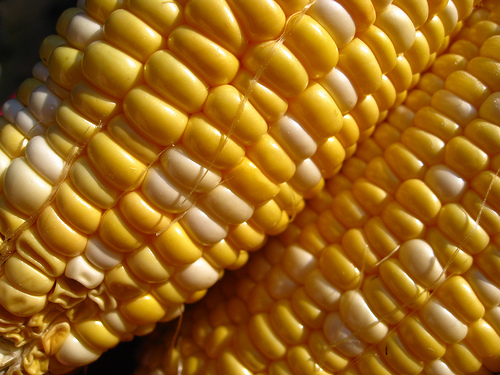corn: (0, 0, 476, 374), (147, 0, 499, 374)
